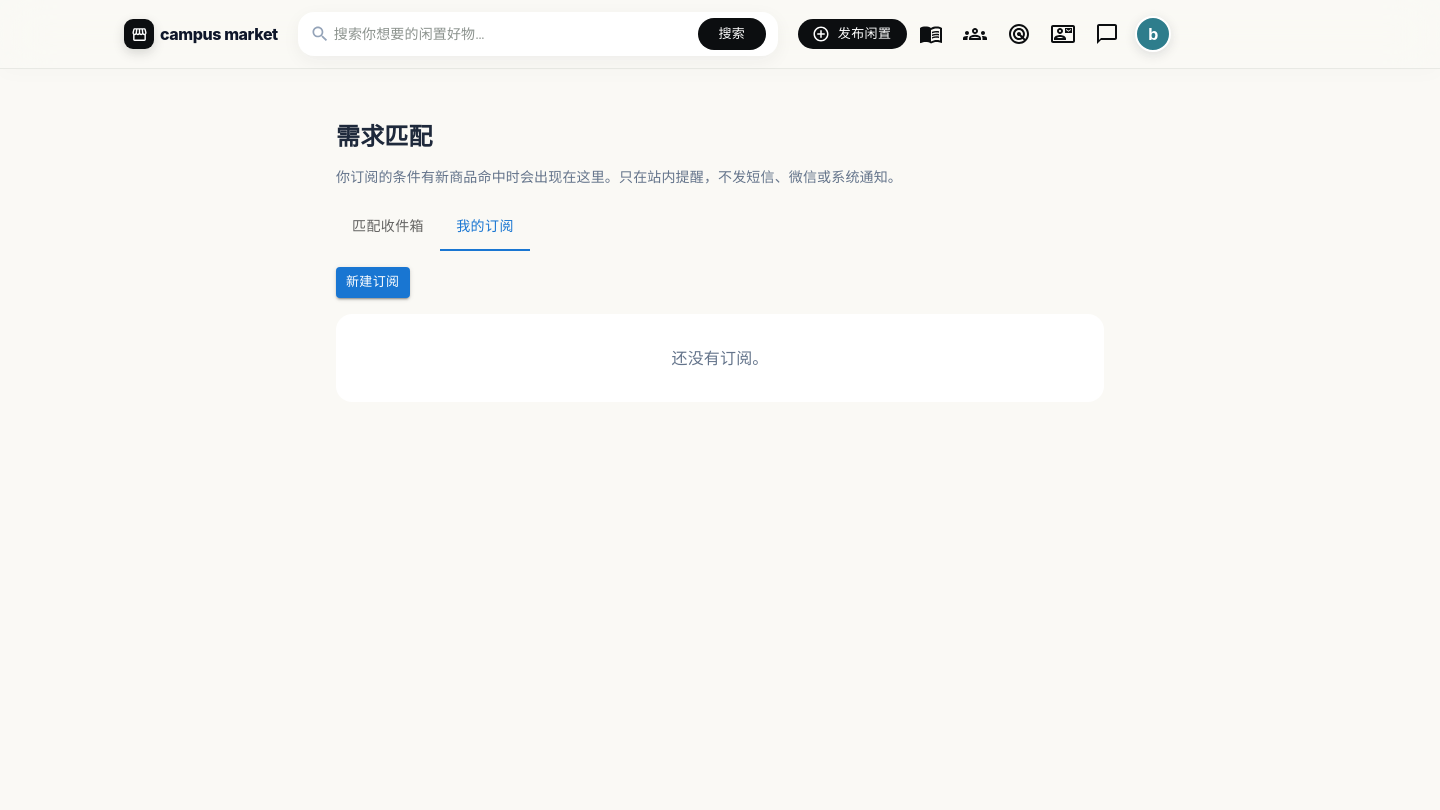
Scenario: b. 需求匹配「新建订阅」（与小程序 DemandForm 相同） › 服务端拒绝（例如启用订阅已达上限）：原话显示在表单里并与提交按钮关联，表单内容保留；结果文案与小程序逐字一致
This screenshot has width=1440, height=810.
Click the button "新建订阅".
click(373, 282)  # box [336,267,410,298]
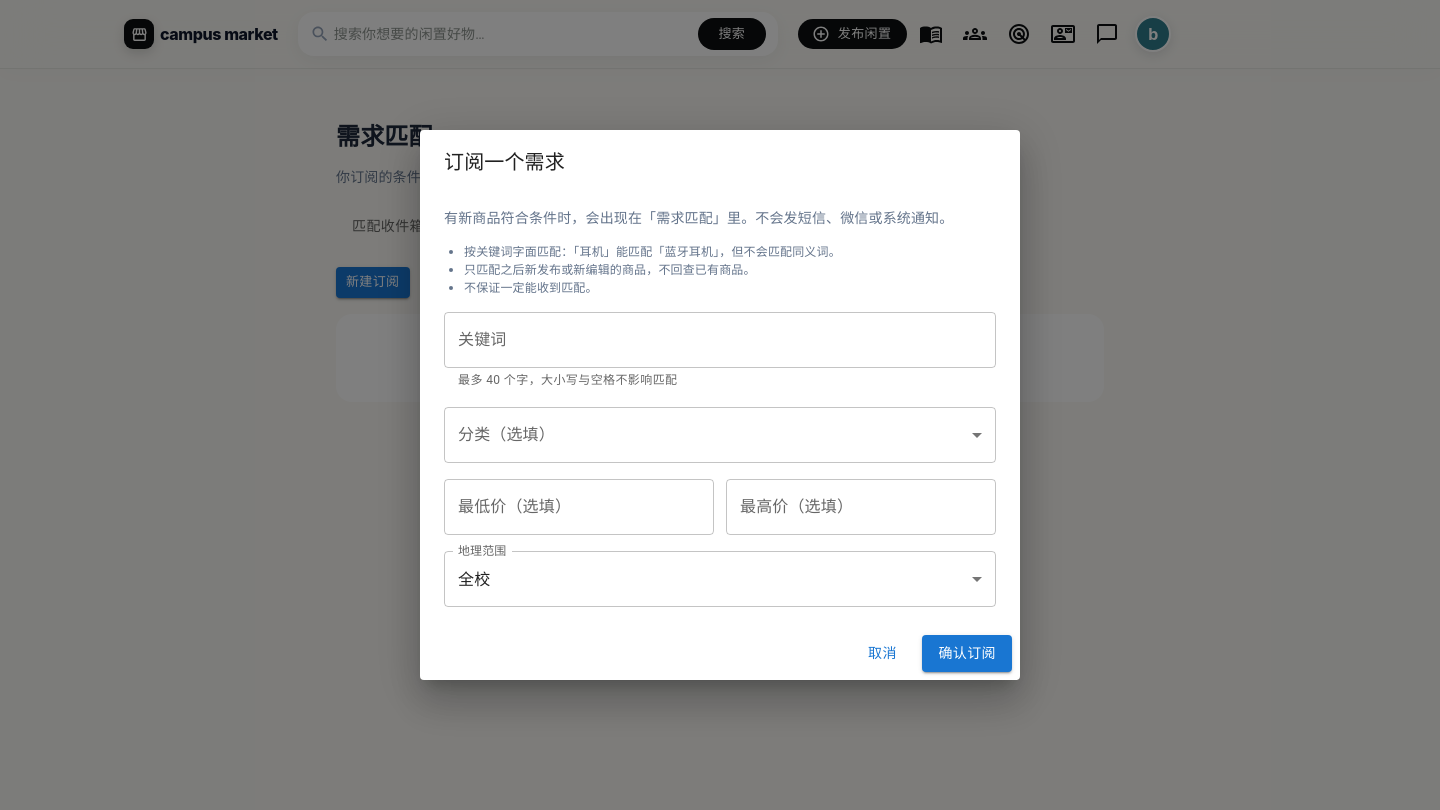
Type "自行车" into the field labelled "关键词".
click(720, 340); type("自行车")  # box [444,312,996,368]
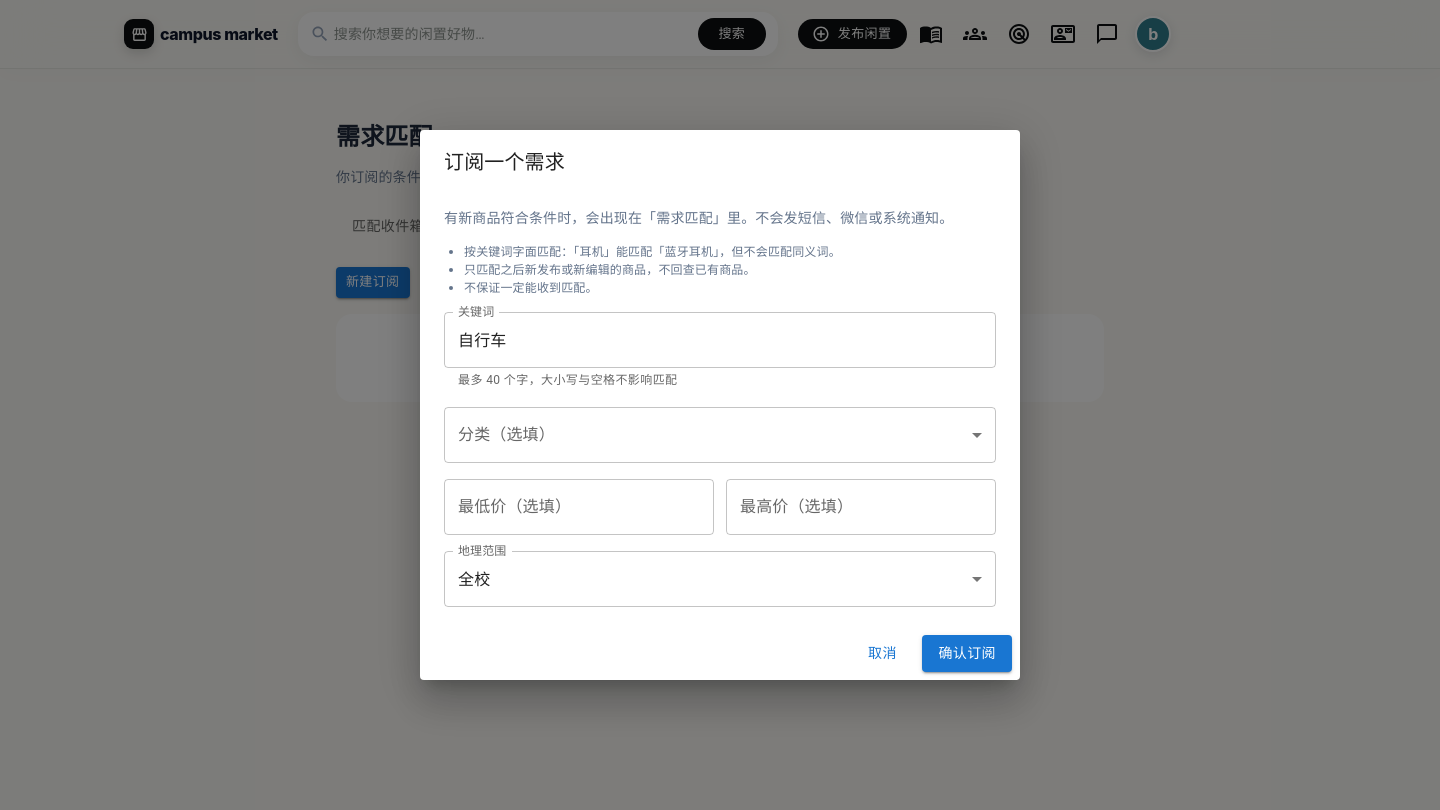
Click the button "确认订阅".
click(967, 653)  # box [922,635,1012,672]
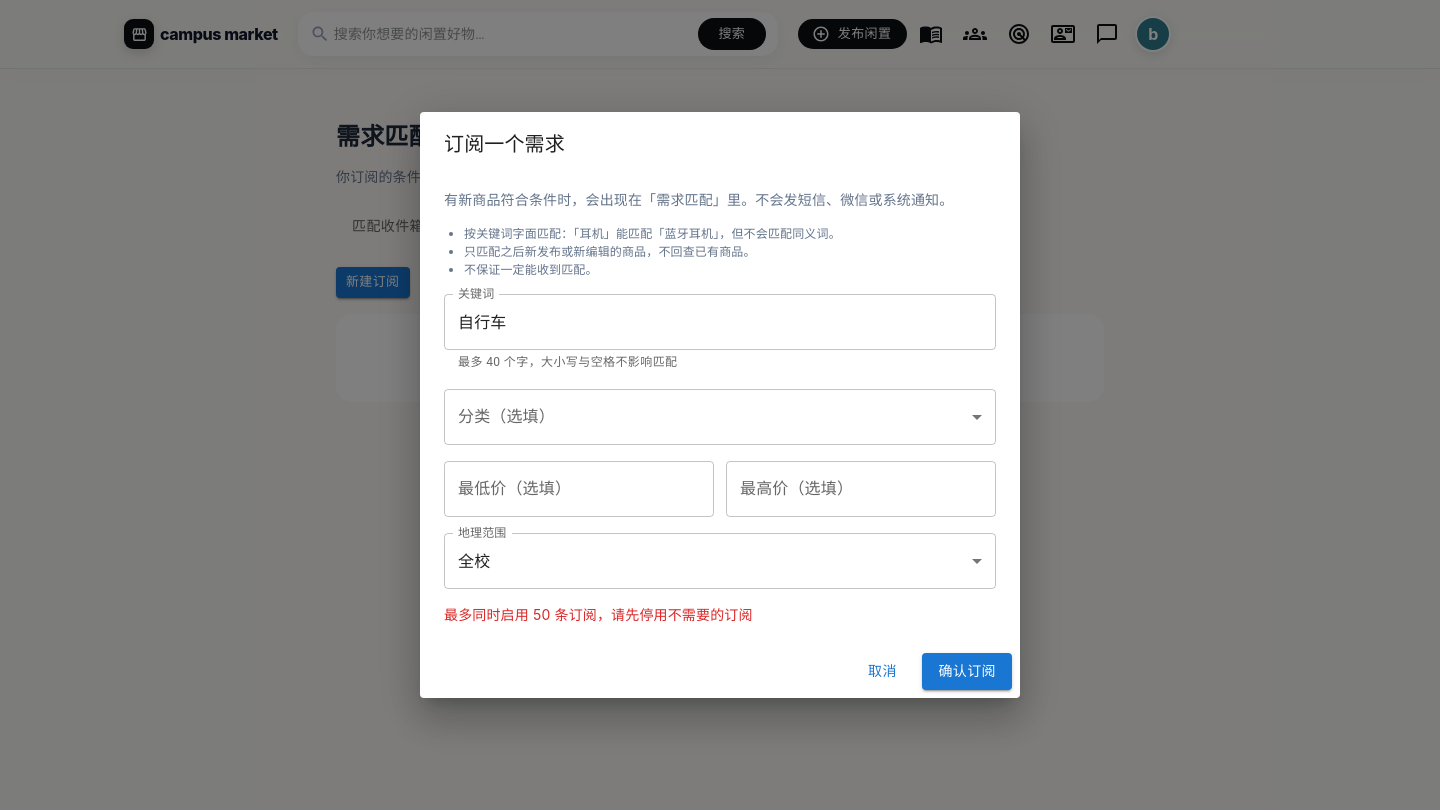
Check: the message reads "最多同时启用 50 条订阅，请先停用不需要的订阅", box [444,606,753,623]
